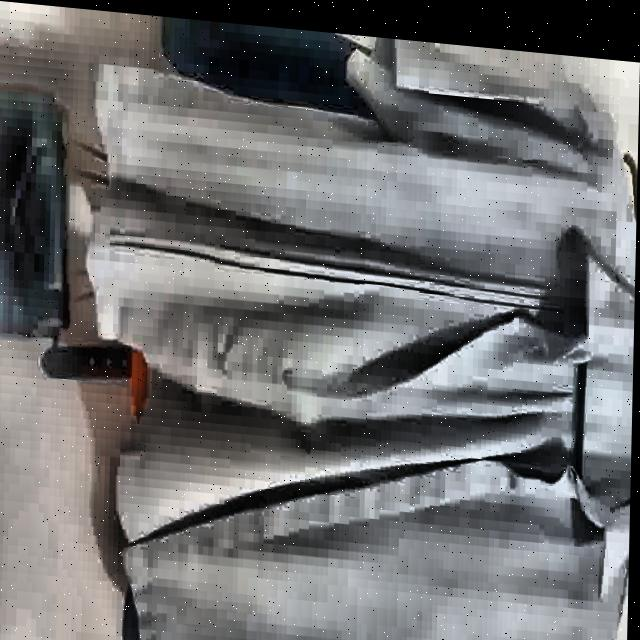clothes: (68, 14, 640, 640)
